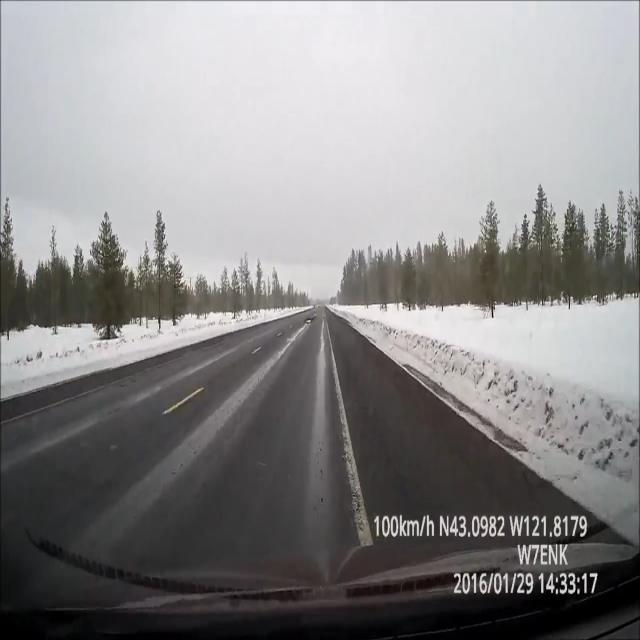Pothole: (298, 312, 318, 325)
